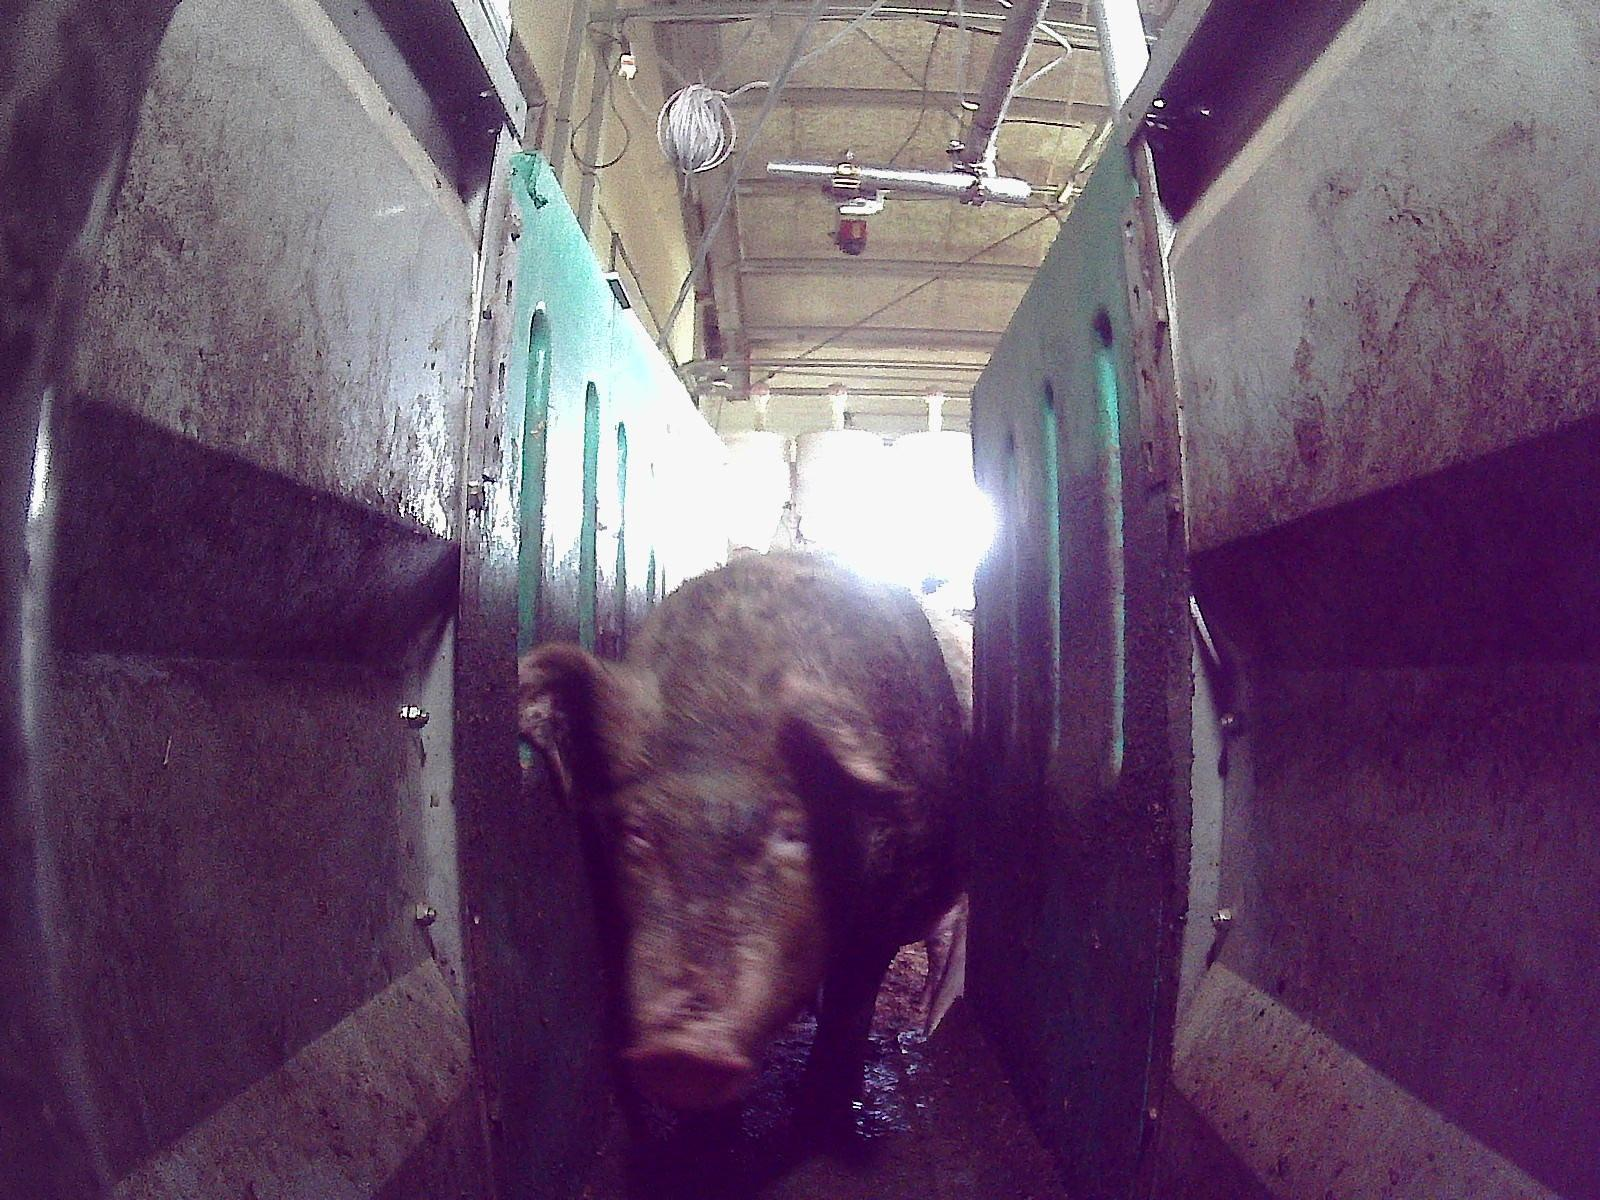Face: (583, 674, 841, 1108)
